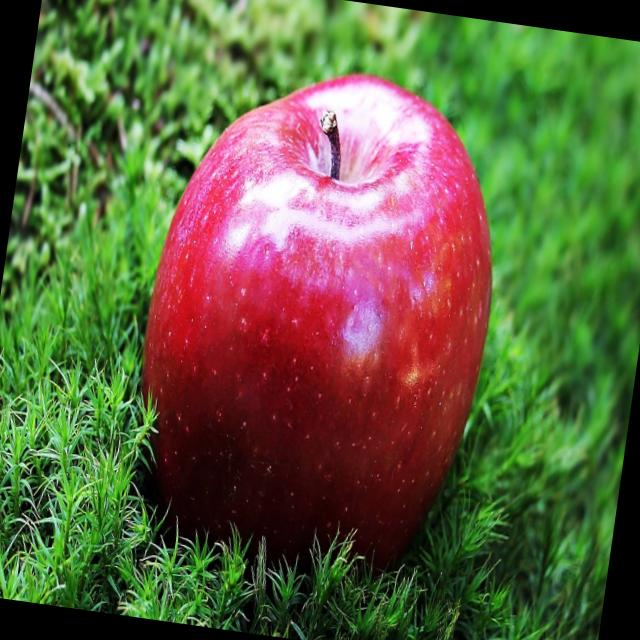apple: (120, 47, 514, 577)
